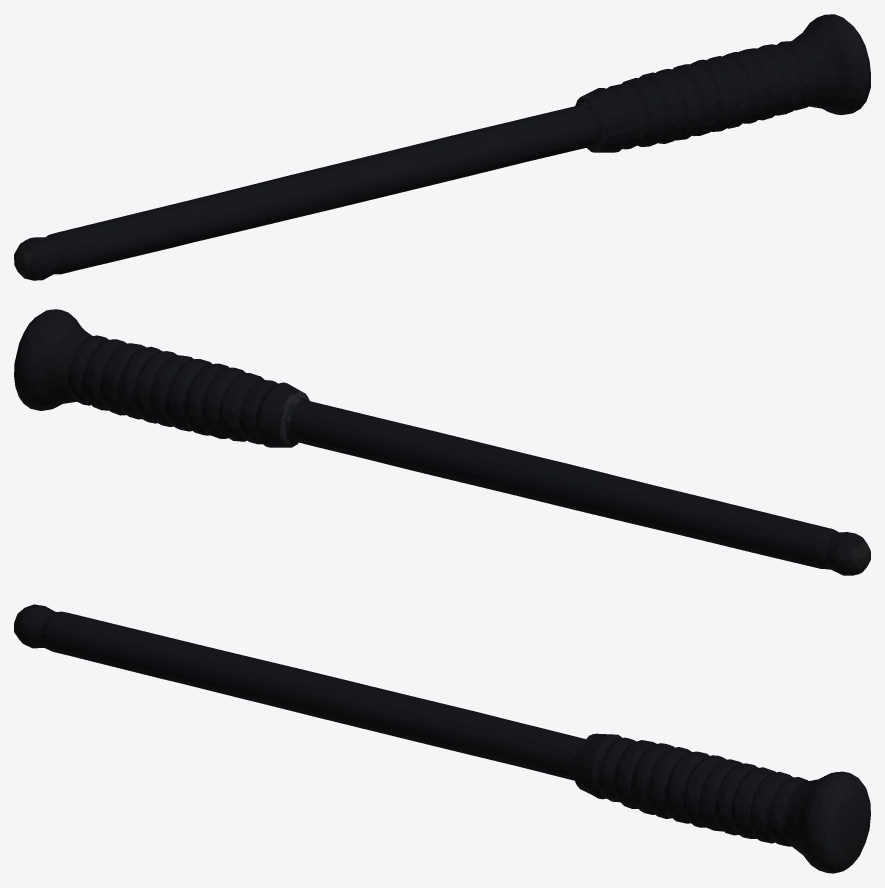
The model's file is baton.glb.
The picture shows the model from 3 angles, top to bottom: view 1: azimuth 30°, elevation 25°; view 2: azimuth 150°, elevation 25°; view 3: azimuth 330°, elevation 25°; orthographic projection.
Visible parts, largest first — view 1: baton; view 2: baton; view 3: baton.
Boxes of the visible parts, <box> form: baton: <box>14,14,870,280</box>; baton: <box>14,309,870,575</box>; baton: <box>14,604,870,873</box>.
Size of the model in its own units: 0.8 by 0.0852 by 0.0839.
Materials: 1 (1 with a texture image).
